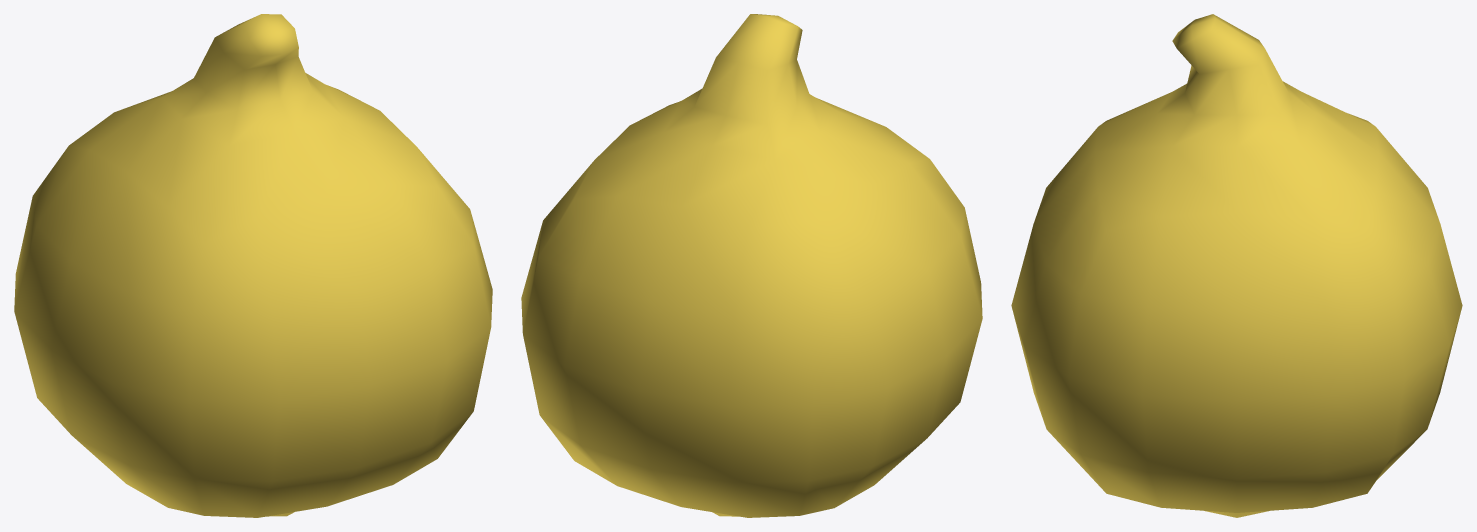
Rendered from Food_Onion.fbx.
3 renders of one model, left to right at view 1: azimuth 30°, elevation 25°; view 2: azimuth 150°, elevation 25°; view 3: azimuth 270°, elevation 25°, orthographic. The views are drawn at different scales.
Parts seen in each view (by area): view 1: Onion; view 2: Onion; view 3: Onion.
Part boxes in pixels (box(x1,y1,x2,y2)): Onion: box(14, 14, 492, 517); Onion: box(521, 14, 982, 517); Onion: box(1011, 14, 1462, 517).
Size of the model in its own units: 6.75 by 7.86 by 6.75.
